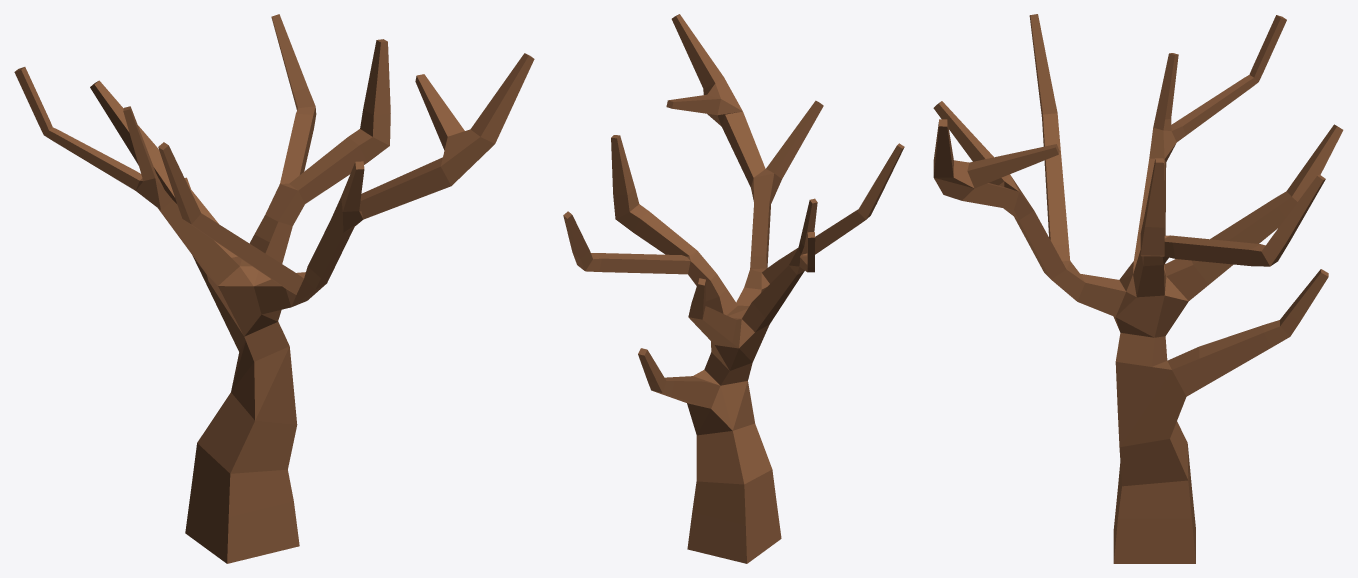
File: tree04.fbx
The picture shows the model from 3 angles, left to right: view 1: azimuth 30°, elevation 25°; view 2: azimuth 150°, elevation 25°; view 3: azimuth 270°, elevation 25°; orthographic projection. The views are drawn at different scales.
Parts seen in each view (by area): view 1: Cube.003; view 2: Cube.003; view 3: Cube.003.
Part boxes in pixels (x1,y1,x2,y2): Cube.003: (14,14,534,563); Cube.003: (563,14,904,563); Cube.003: (933,14,1343,563).
Size of the model in its own units: 200 by 288 by 209.
